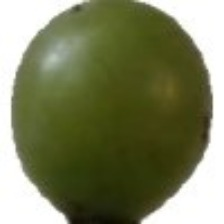grapes: (0, 58, 183, 205)
